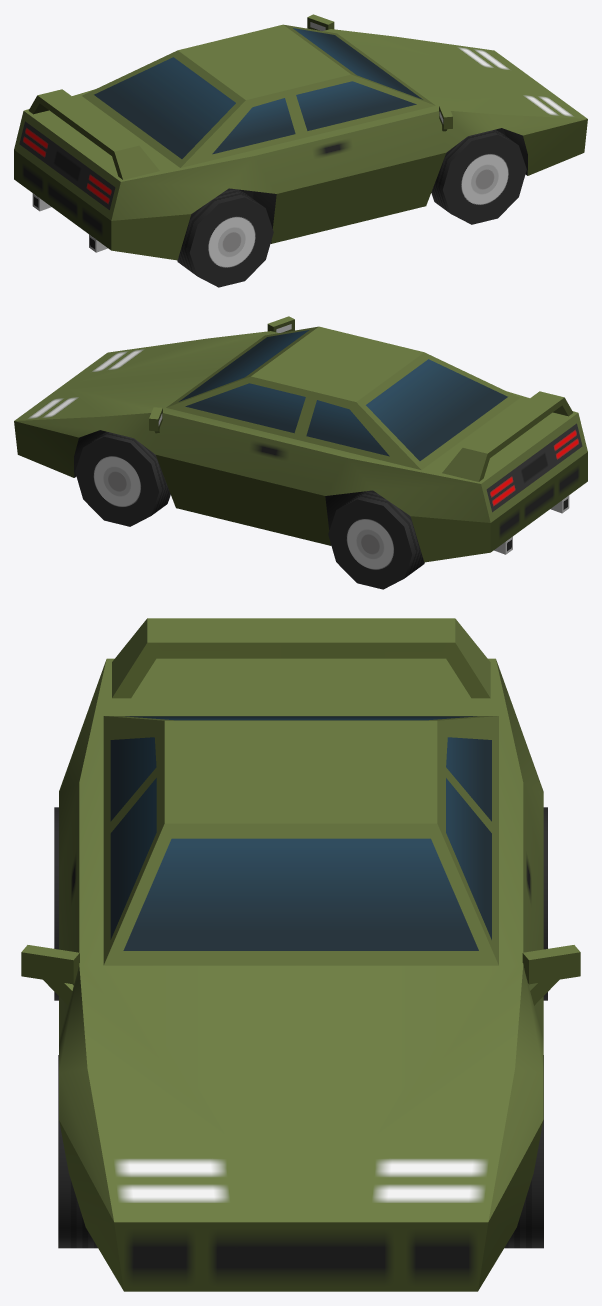
The model's file is Car_241.glb.
3 renders of one model, top to bottom at view 1: azimuth 30°, elevation 25°; view 2: azimuth 150°, elevation 25°; view 3: azimuth 270°, elevation 25°, orthographic. The views are drawn at different scales.
Parts seen in each view (by area): view 1: Car_241, wheel_3_Car_241_Wheel_2R, wheel_1_Car_241_Wheel_1R; view 2: Car_241, wheel_2_Car_241_Wheel_2L, wheel_0_Car_241_Wheel_1L; view 3: Car_241, wheel_1_Car_241_Wheel_1R, wheel_0_Car_241_Wheel_1L.
Boxes of the visible parts, box(x1,y1,x2,y2) form: Car_241: box(14, 14, 587, 260); wheel_3_Car_241_Wheel_2R: box(177, 188, 273, 287); wheel_1_Car_241_Wheel_1R: box(431, 129, 526, 224); Car_241: box(14, 316, 587, 562); wheel_2_Car_241_Wheel_2L: box(328, 490, 424, 589); wheel_0_Car_241_Wheel_1L: box(75, 432, 170, 526); Car_241: box(21, 618, 580, 1291); wheel_1_Car_241_Wheel_1R: box(58, 1055, 97, 1248); wheel_0_Car_241_Wheel_1L: box(504, 1055, 543, 1248).
Size of the model in its own units: 3.87 by 1.19 by 1.96.
Materials: 1 (1 with a texture image).
